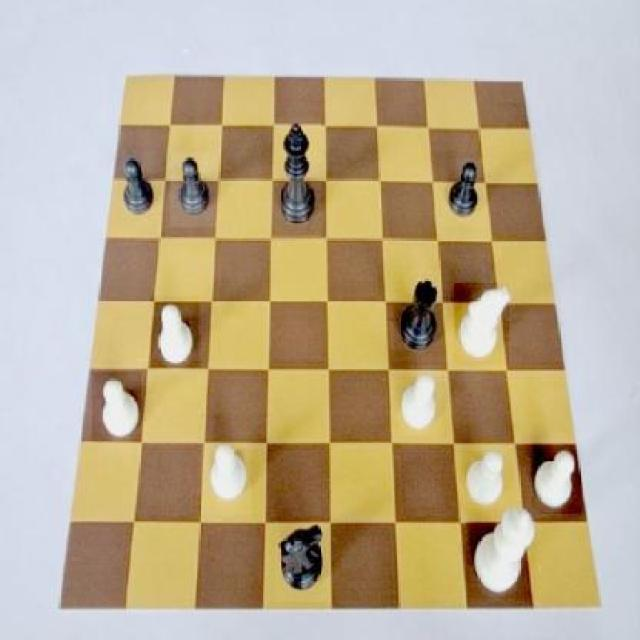black-bishop: (272, 119, 320, 238)
black-king: (276, 521, 332, 604)
black-knight: (171, 152, 218, 228), (440, 160, 485, 228), (122, 150, 159, 226)
black-queen: (394, 276, 444, 356)
white-bishop: (466, 511, 536, 601)
white-king: (454, 283, 509, 365)
white-knight: (200, 440, 251, 515), (458, 443, 512, 511), (92, 372, 142, 445), (532, 444, 582, 514), (152, 297, 200, 369), (398, 366, 442, 436)
